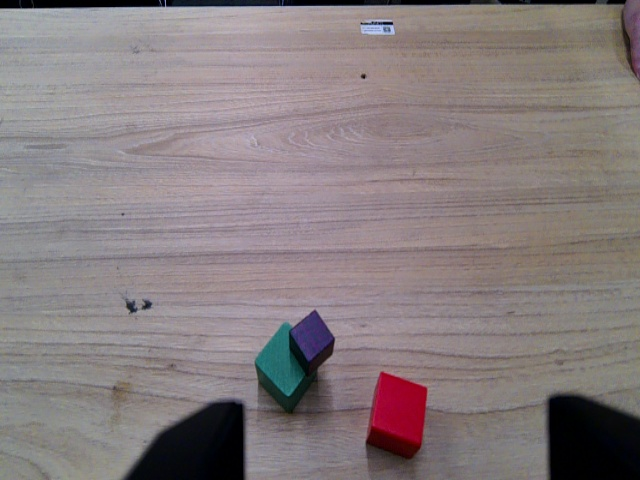brick: (288, 307, 334, 378)
